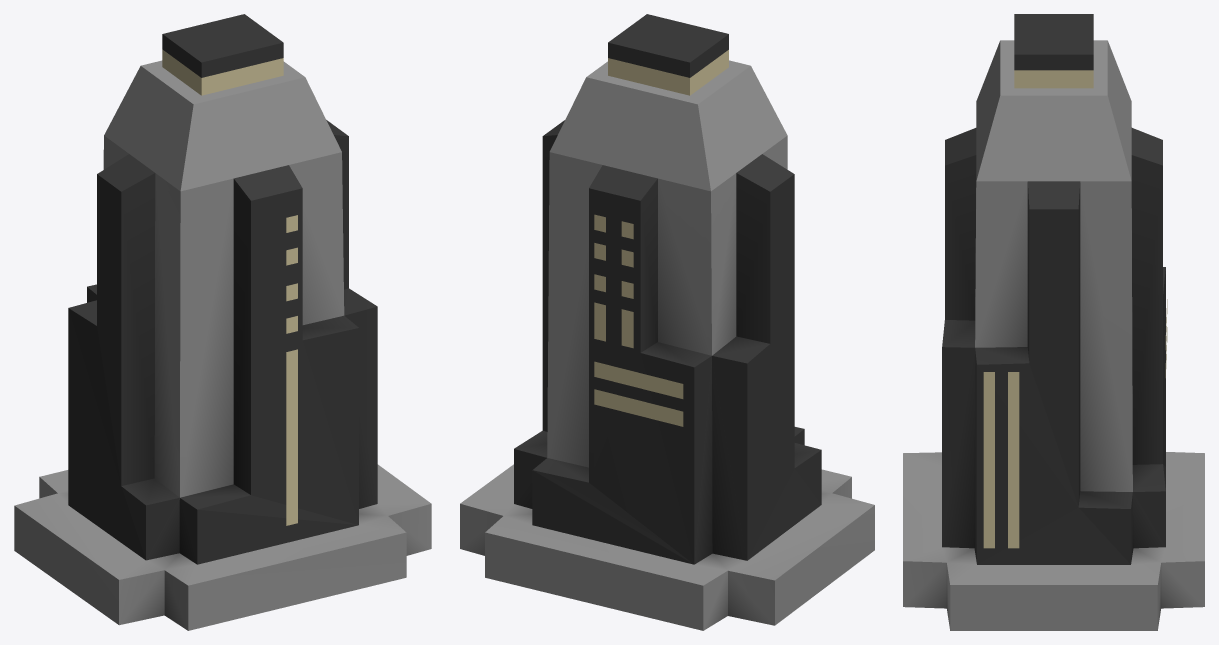
File: Env_Tower.FBX
3 views of the same model, side by side, from view 1: azimuth 30°, elevation 25°; view 2: azimuth 150°, elevation 25°; view 3: azimuth 270°, elevation 25° (orthographic).
Visible parts, largest first — view 1: Env_Tower; view 2: Env_Tower; view 3: Env_Tower.
Part boxes in pixels (bbox=[...]): Env_Tower: bbox=[14, 14, 431, 630]; Env_Tower: bbox=[460, 14, 874, 630]; Env_Tower: bbox=[903, 14, 1204, 630].
Size of the model in its own units: 337 by 523 by 276.
